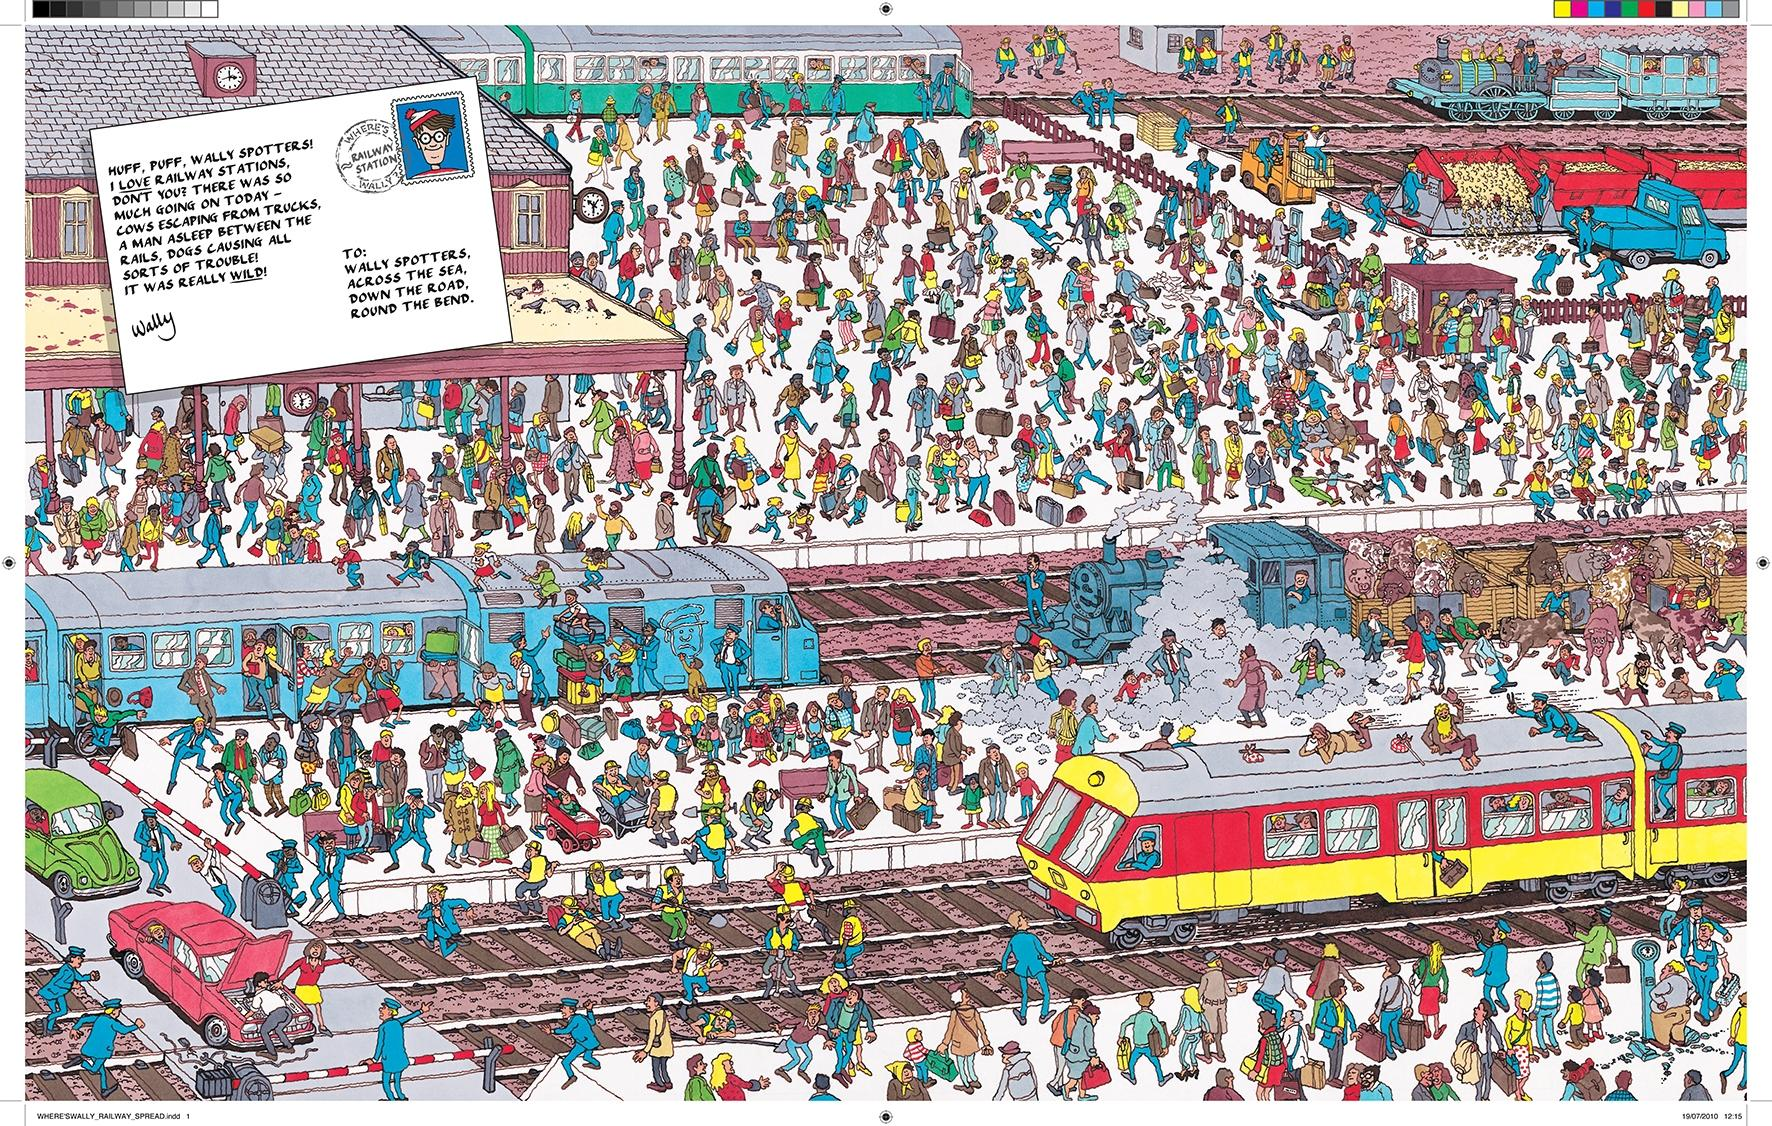waldos: (1258, 371, 1314, 427)
